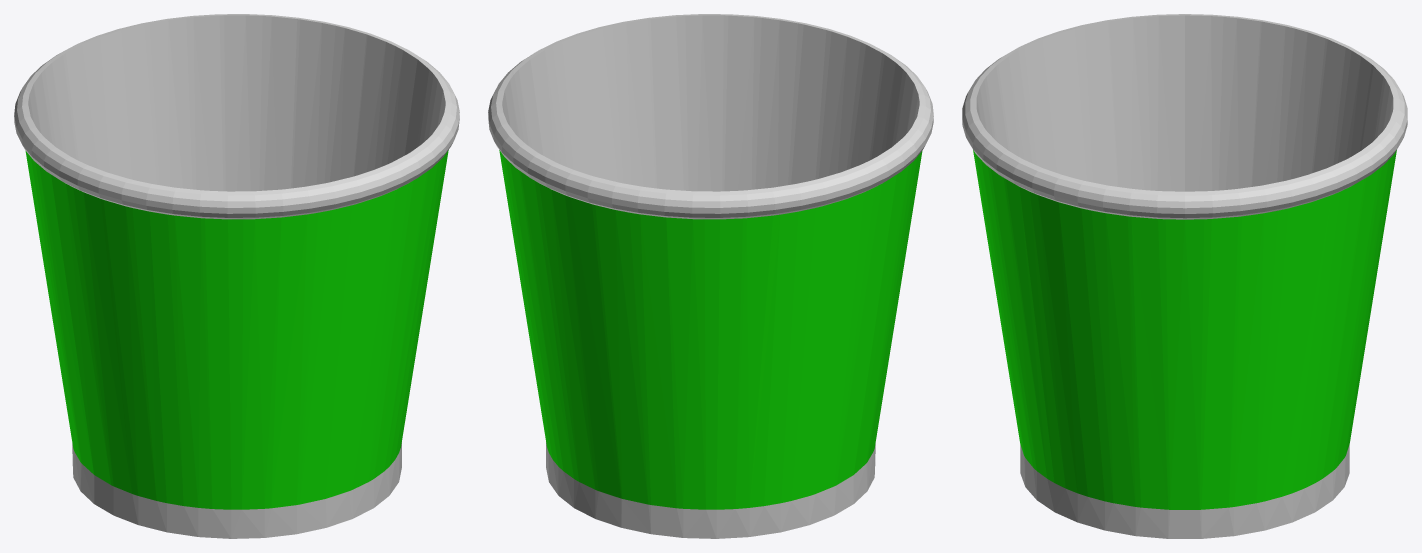
The model's file is green_paper_cup.dae.
The picture shows the model from 3 angles, left to right: view 1: azimuth 30°, elevation 25°; view 2: azimuth 150°, elevation 25°; view 3: azimuth 270°, elevation 25°; orthographic projection.
Parts seen in each view (by area): view 1: paper_cups; view 2: paper_cups; view 3: paper_cups.
Part boxes in pixels (bbox=[...]): paper_cups: bbox=[14, 14, 459, 538]; paper_cups: bbox=[488, 14, 933, 538]; paper_cups: bbox=[962, 14, 1407, 538].
Bounding box in the file's own units: 0.0662 × 0.0661 × 0.06.
